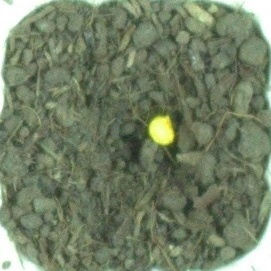chilli seed: (146, 113, 179, 148)
